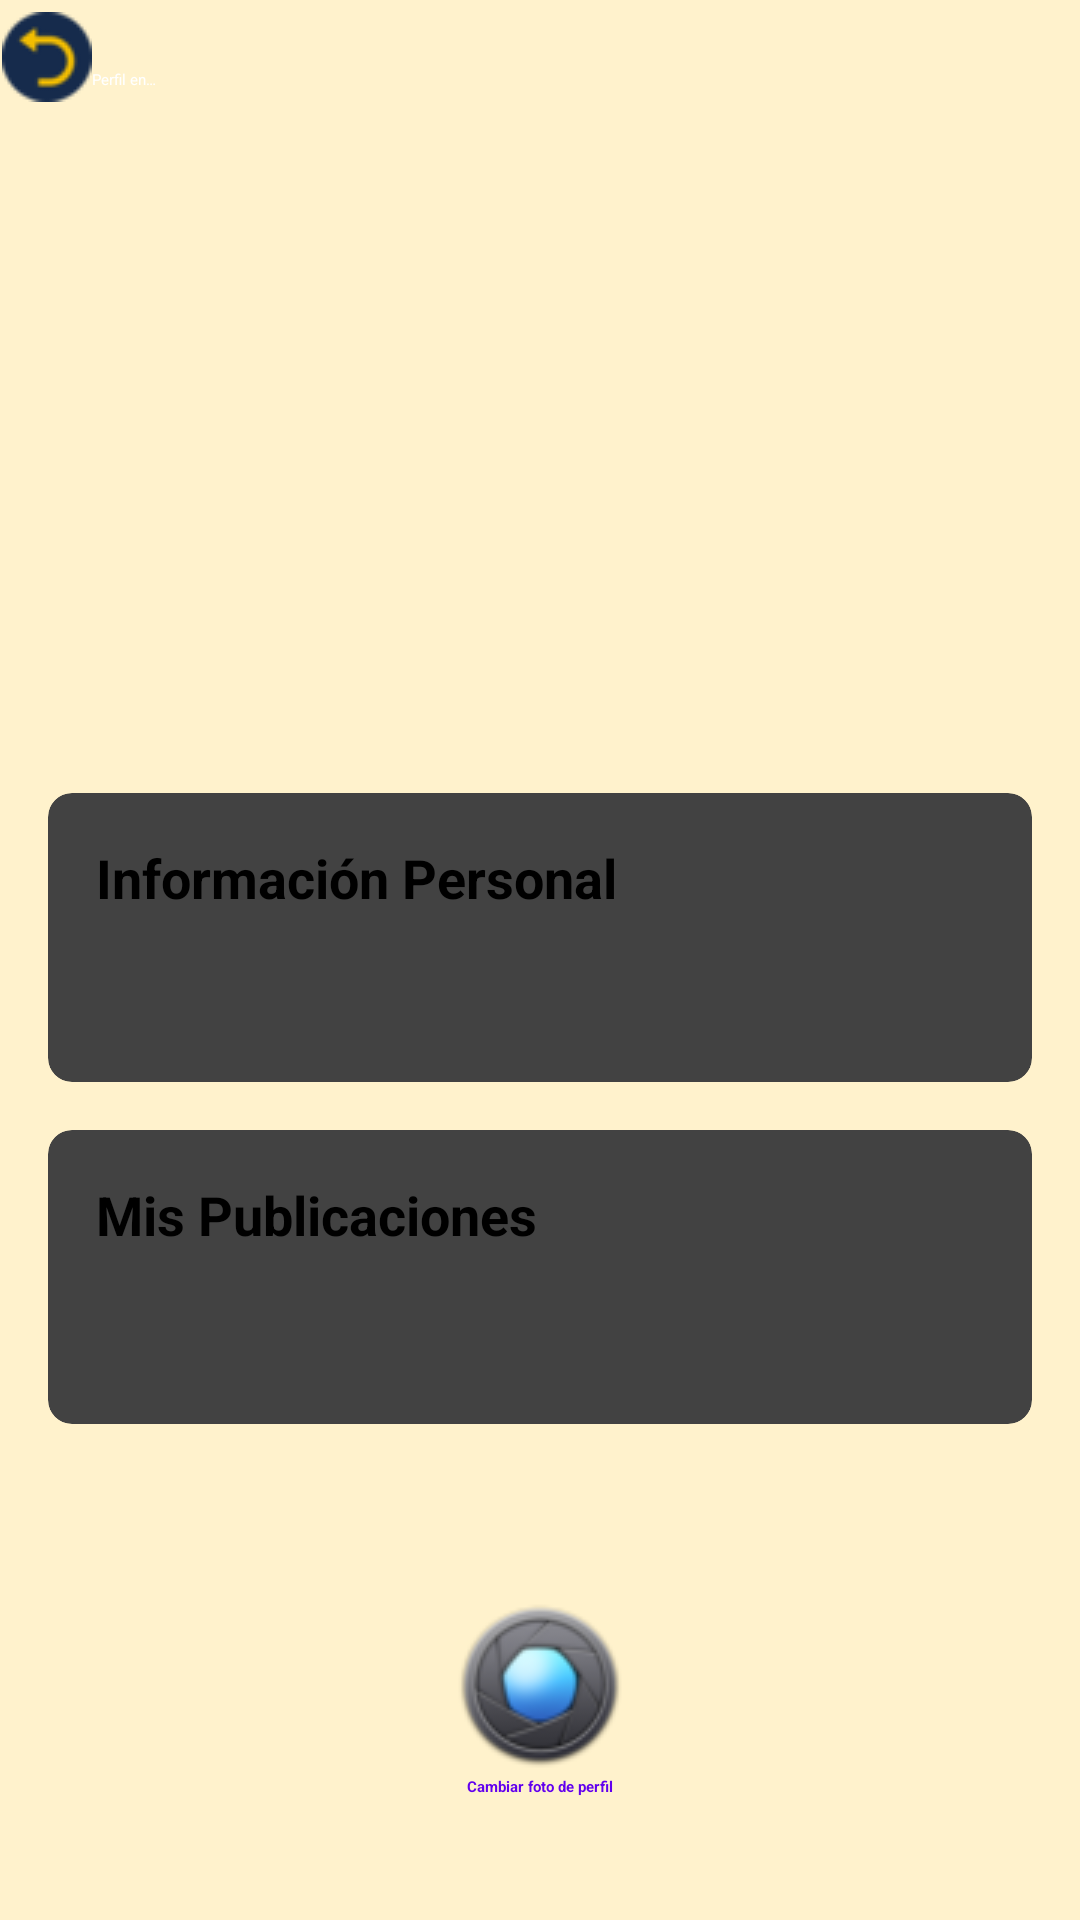

Icon click points for this 1080x1920 phone screenshot, format (x,y):
camara: (540,1686)
